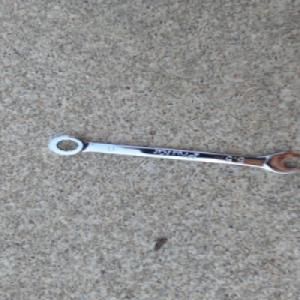Wrench: (46, 133, 300, 175)
